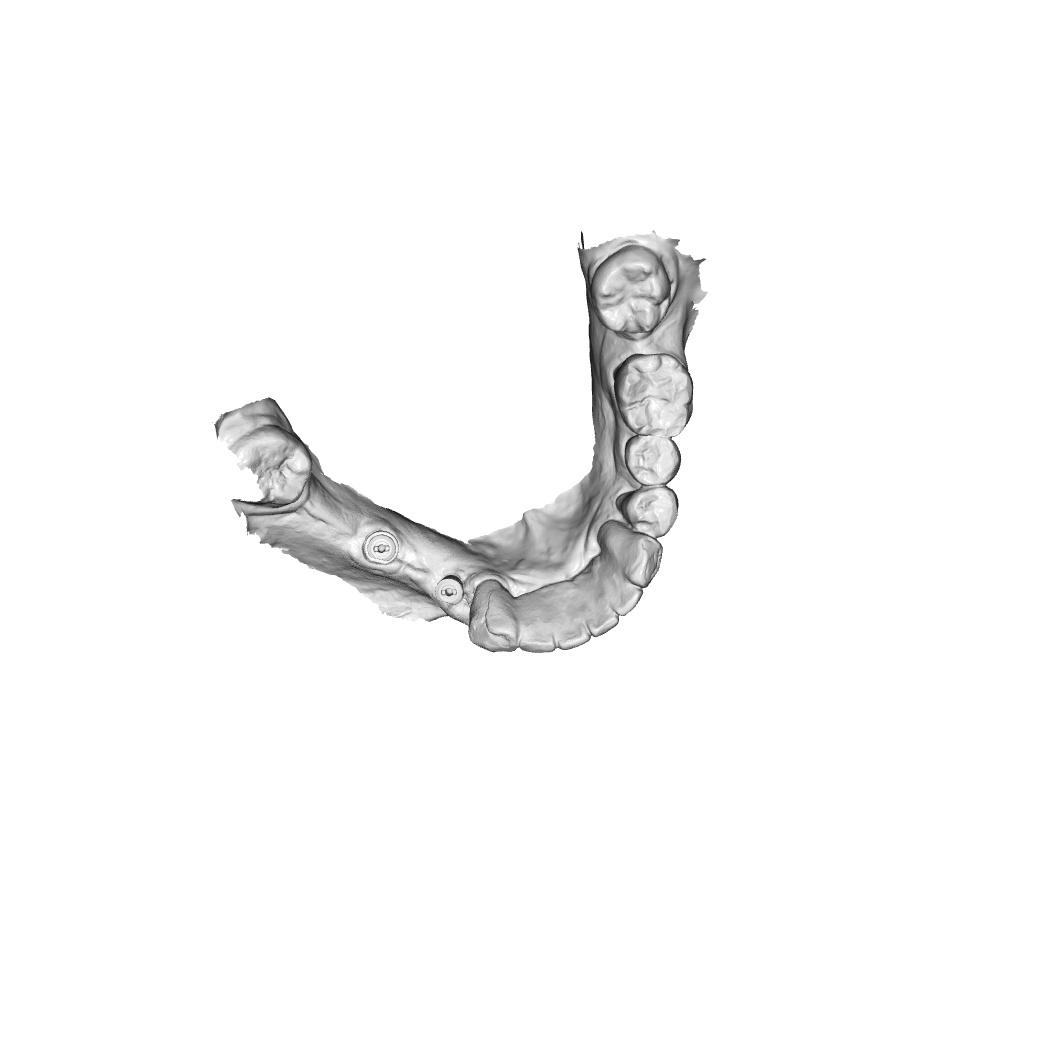canine: (595, 519, 664, 590), (468, 576, 519, 654)
implant_minus: (361, 530, 400, 566), (435, 574, 465, 606)
incisor: (553, 603, 592, 652), (518, 609, 557, 655), (604, 577, 644, 617), (579, 600, 620, 638)
molar: (590, 244, 672, 341), (226, 424, 313, 509), (613, 352, 695, 438)
premolar: (614, 485, 680, 539), (624, 434, 682, 487)
